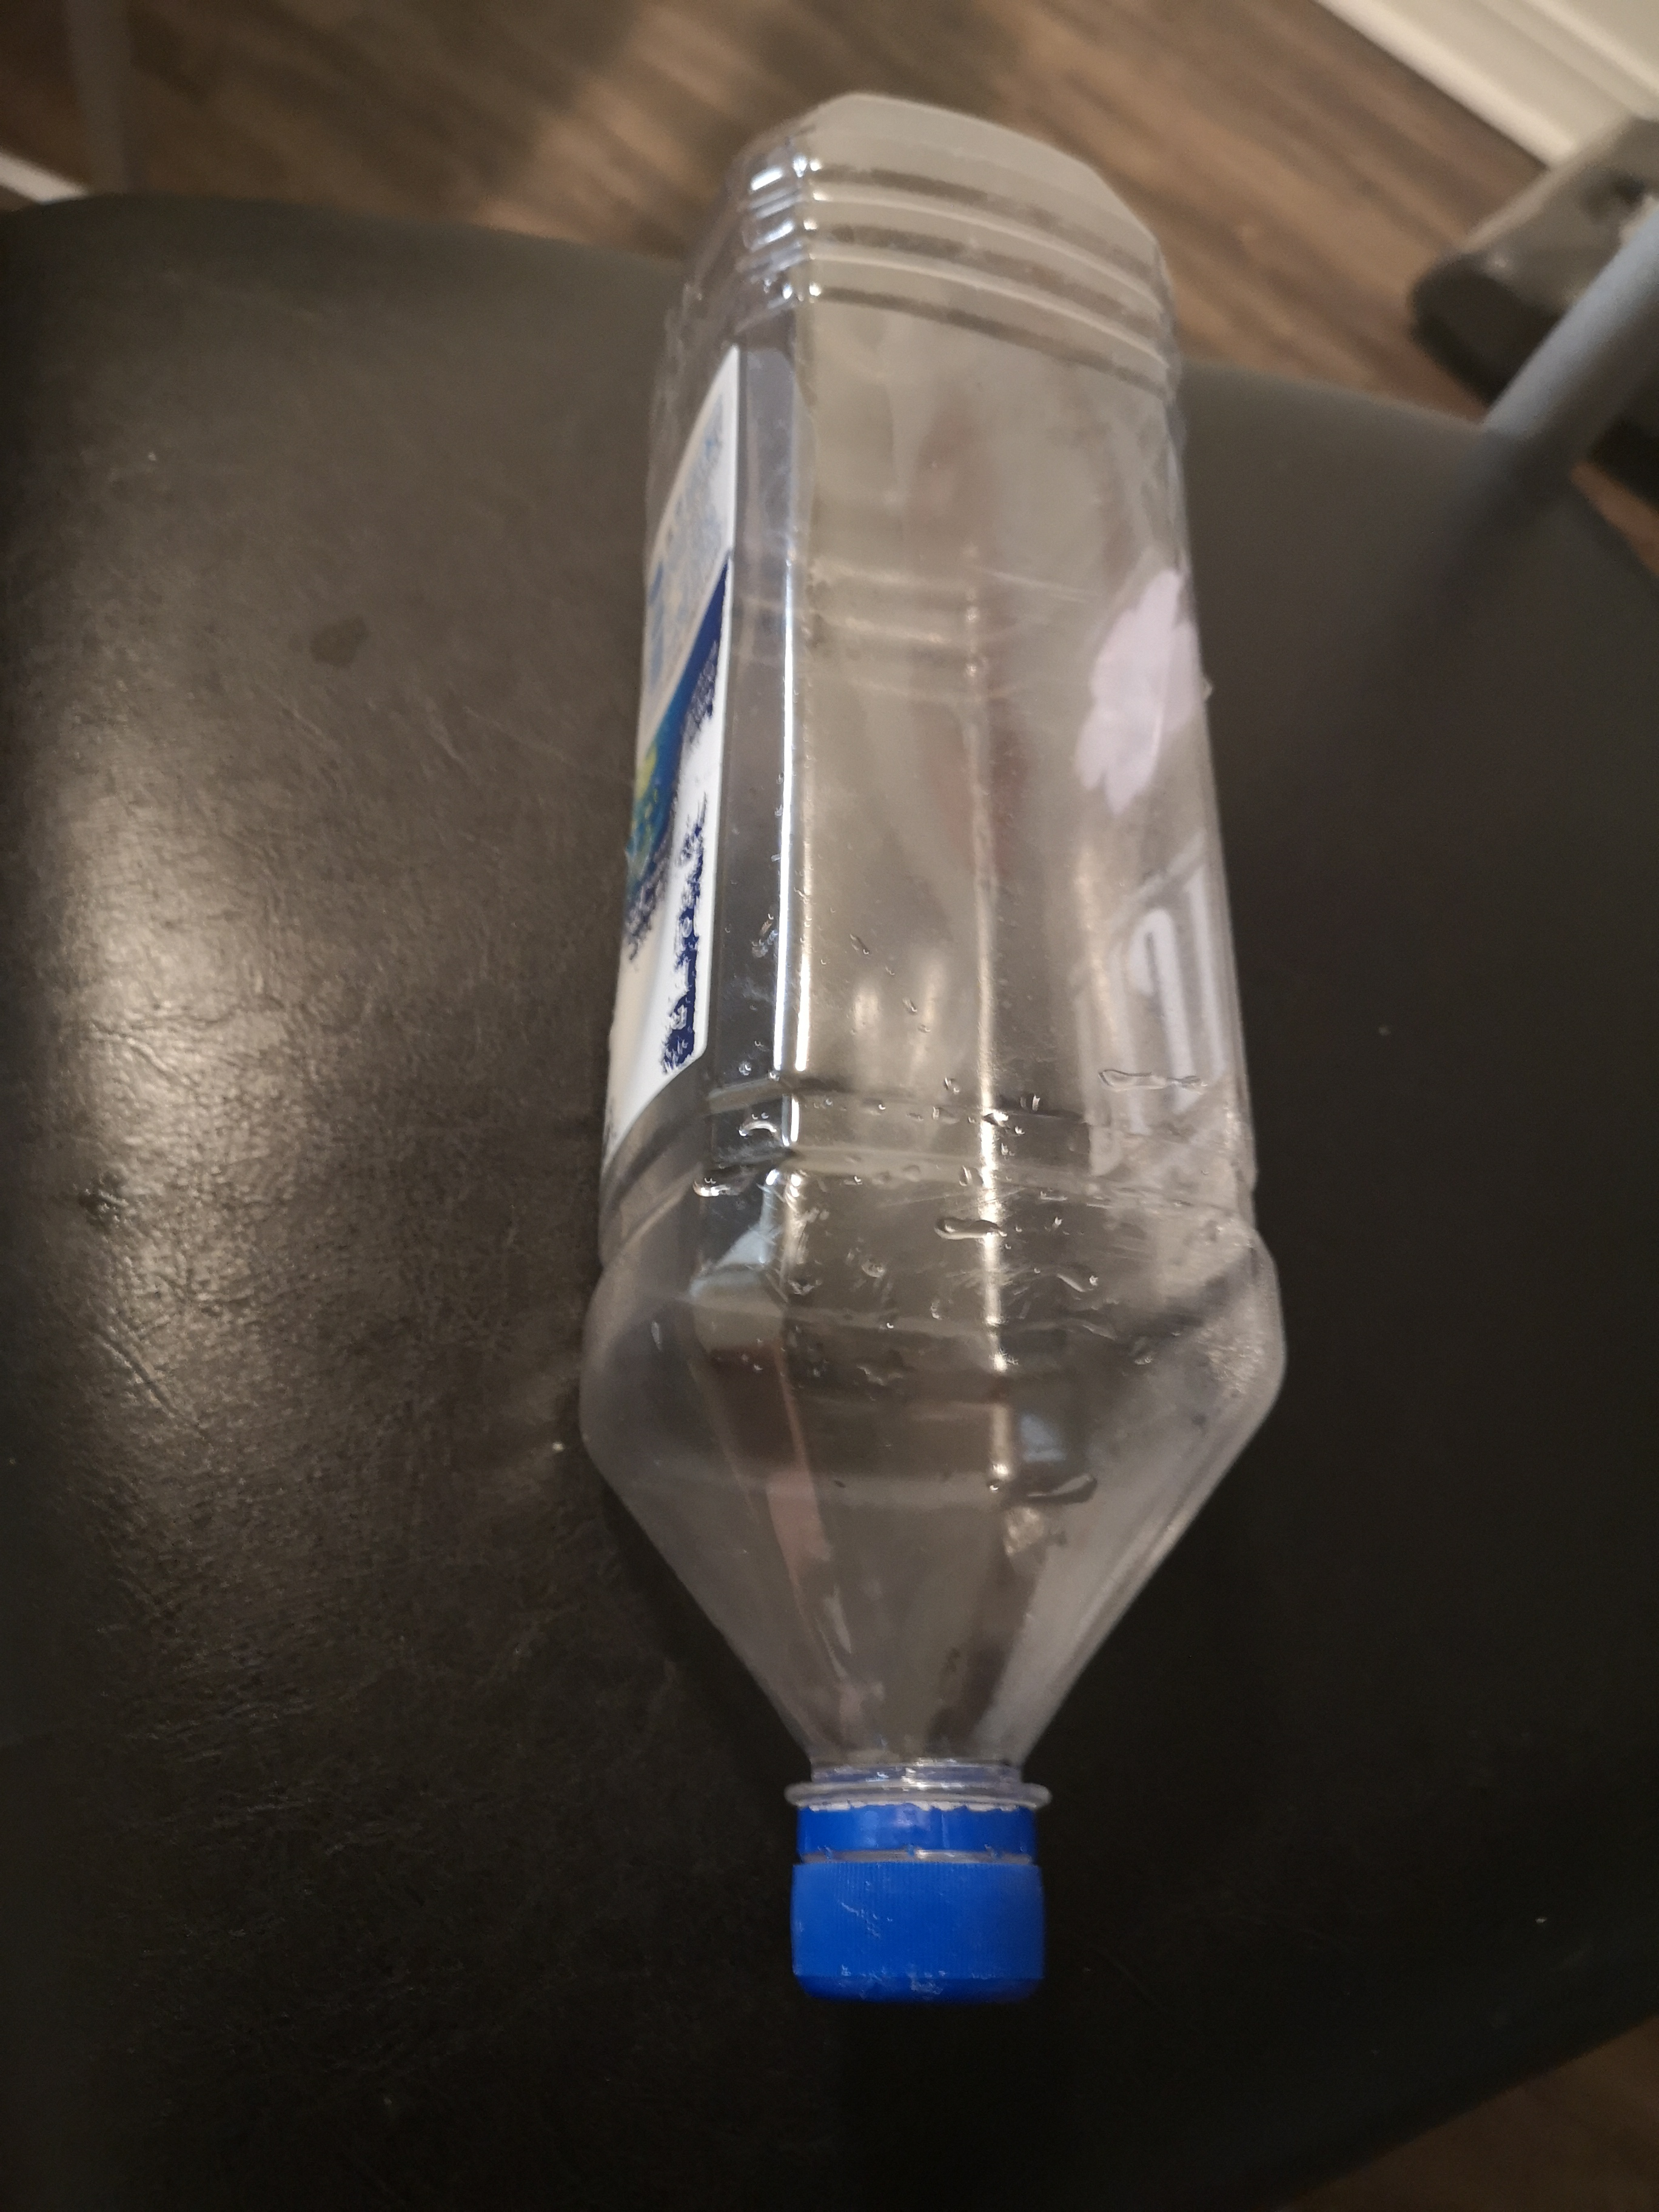其他: (603, 94, 1284, 2003)
